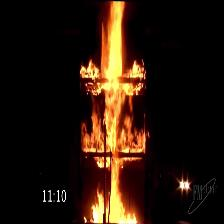fire: (75, 0, 149, 216)
